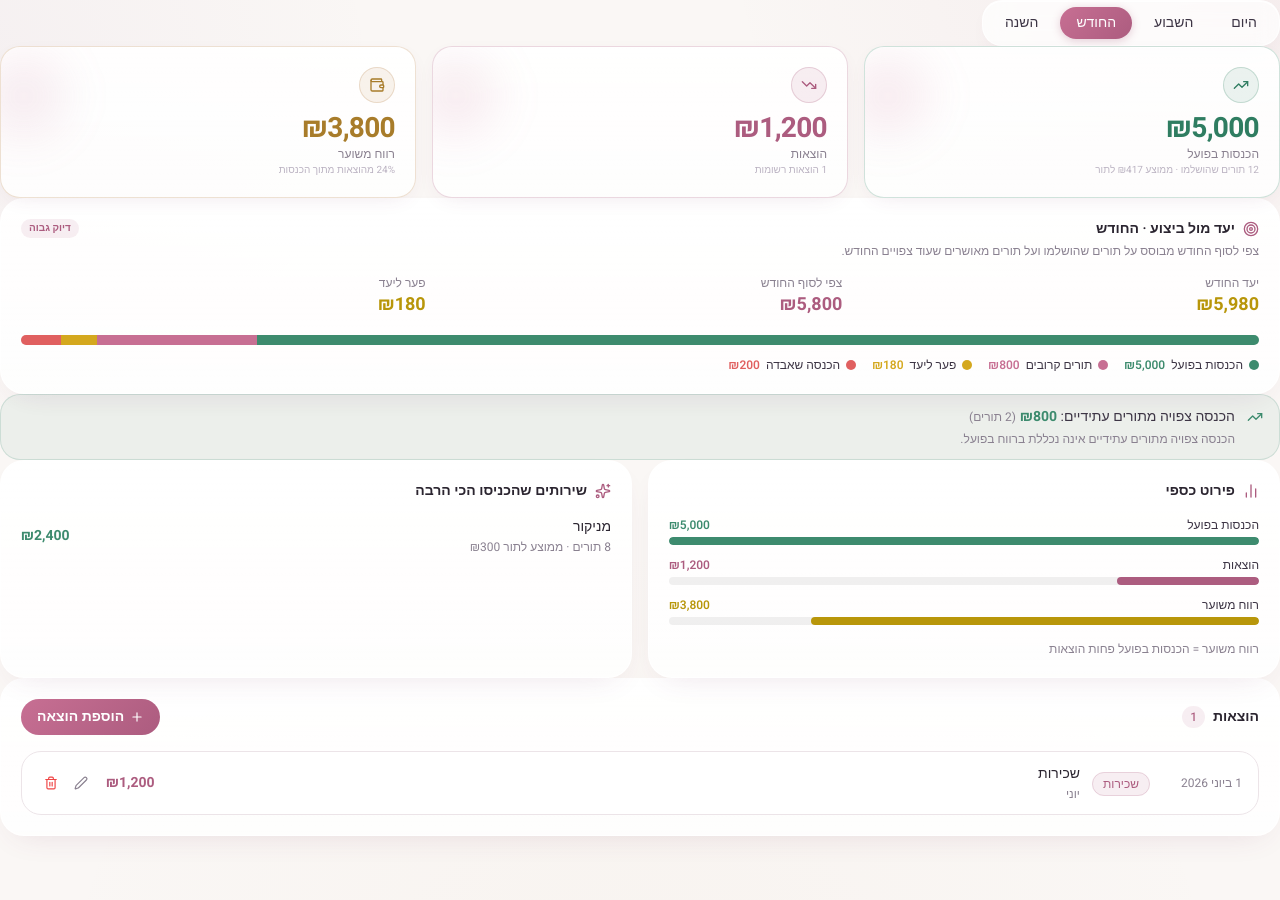
Test case: FinancePageClient — expenses CRUD › opens the edit modal prefilled when an expense row's edit button is clicked
This screenshot has width=1280, height=900.
Click the button named "עריכה". click: (81, 782)
box: [68,770,94,796]
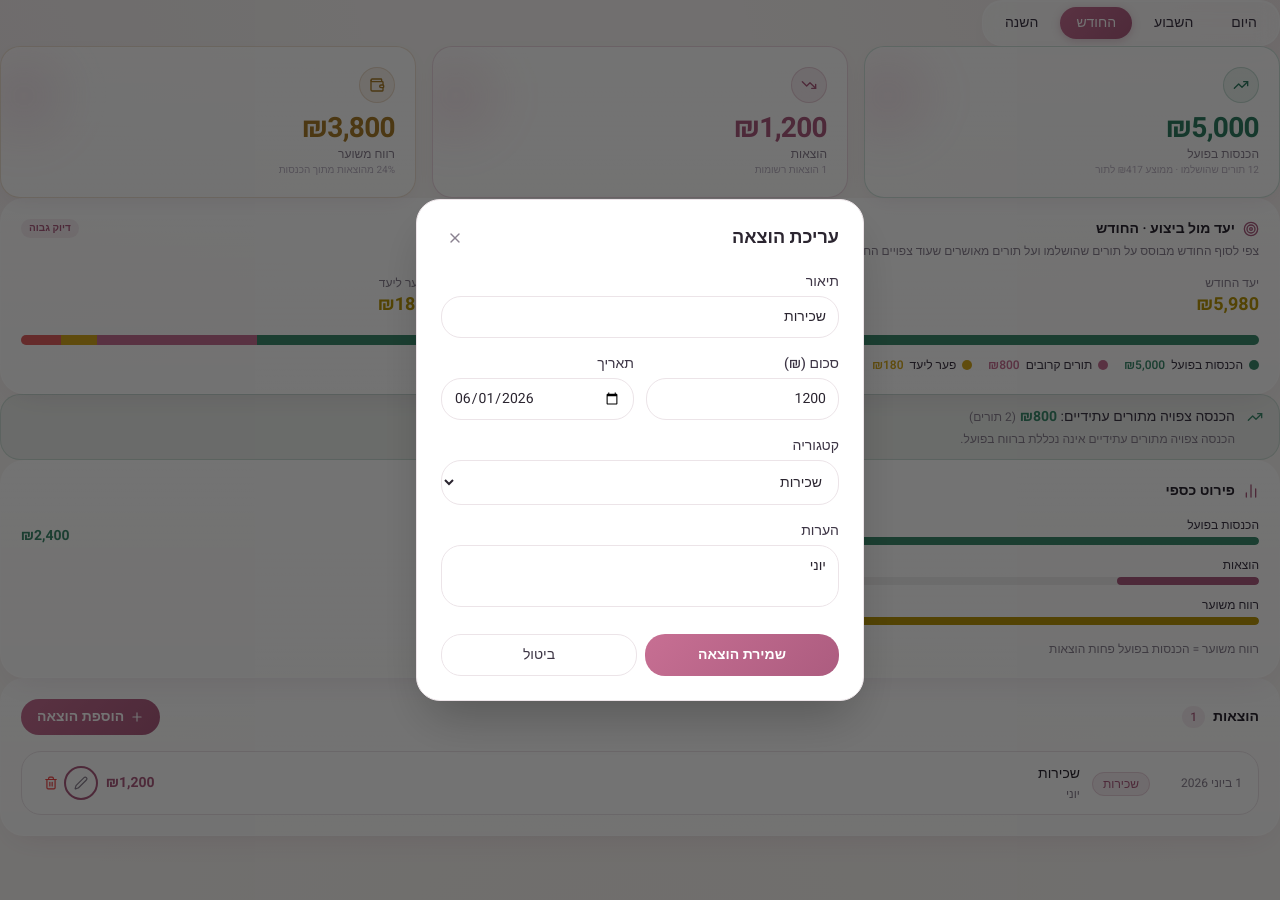
Check: the heading "עריכת הוצאה" is shown, box [732,224,839,252]
Check: the form named "expenseId" holds "e1", box [441,272,839,676]
